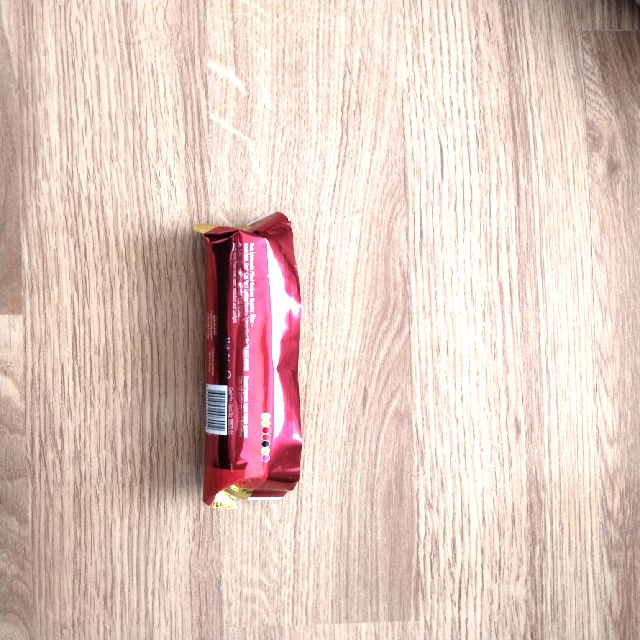ulker_cokoprens_biskuvi: (199, 213, 301, 507)
